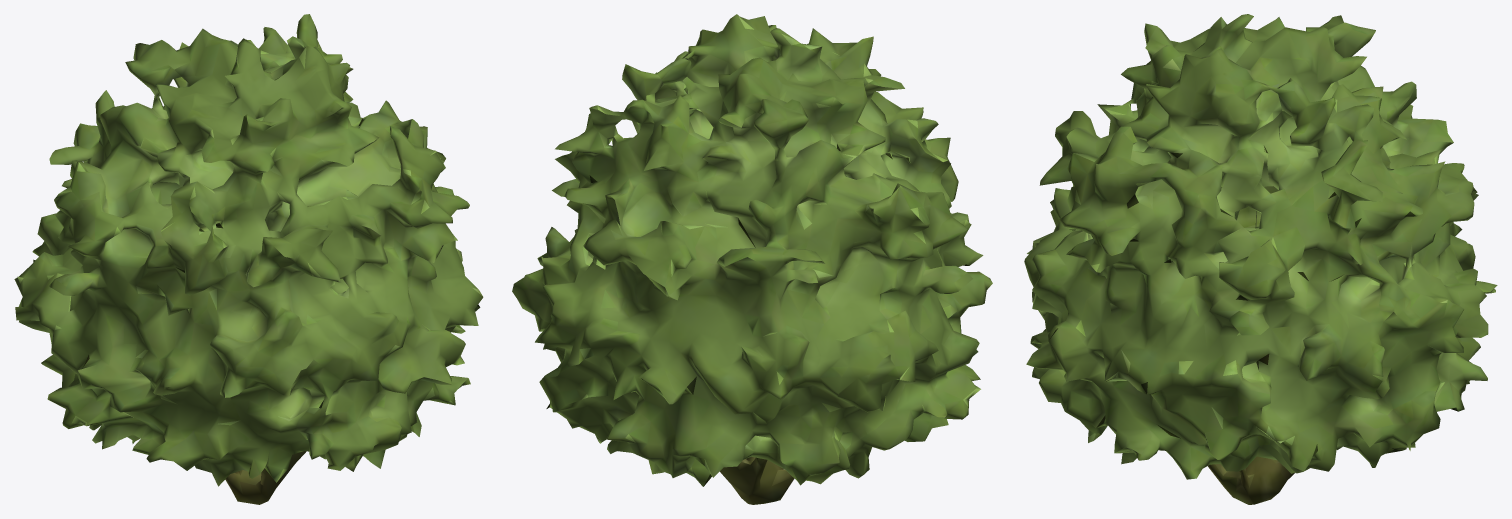
The model's file is BushDome.glb.
3 renders of one model, left to right at view 1: azimuth 30°, elevation 25°; view 2: azimuth 150°, elevation 25°; view 3: azimuth 270°, elevation 25°, orthographic. The views are drawn at different scales.
Visible parts, largest first — view 1: BushDome; view 2: BushDome; view 3: BushDome.
Part boxes in pixels (bbox=[...]): BushDome: bbox=[14, 14, 483, 504]; BushDome: bbox=[512, 14, 992, 504]; BushDome: bbox=[1024, 14, 1497, 504].
Bounding box in the file's own units: 1.18 × 1.29 × 1.16.
1 material, 1 textured.
